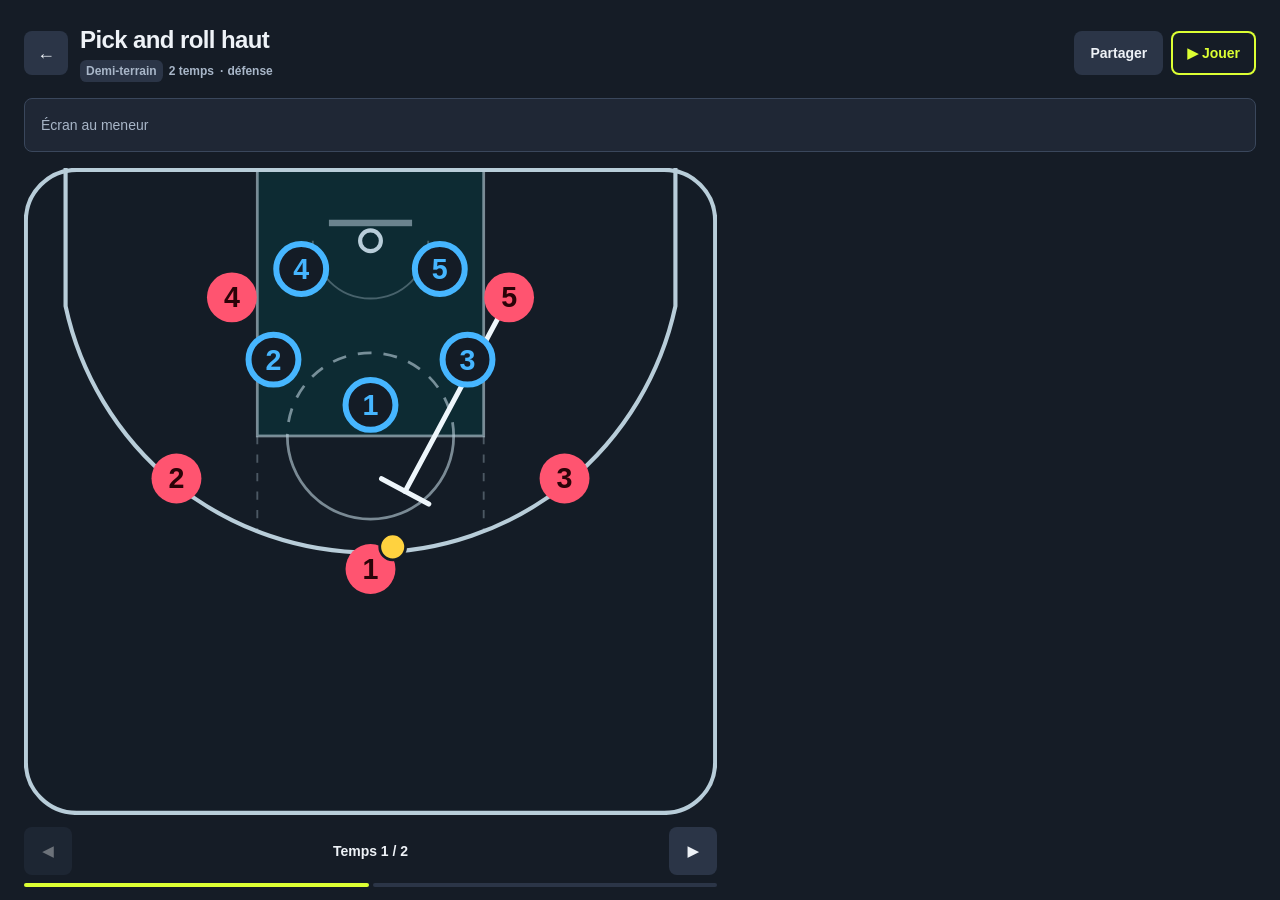
Test case: ExportSchema — sharing a play › sharing asks for no code, even with no role at all
Expected: the picture named "tableau tactique" is shown, x1=24 y1=168 x2=717 y2=815
Click the button "Partager" at (1119, 53), box x1=1074 y1=31 x2=1163 y2=75
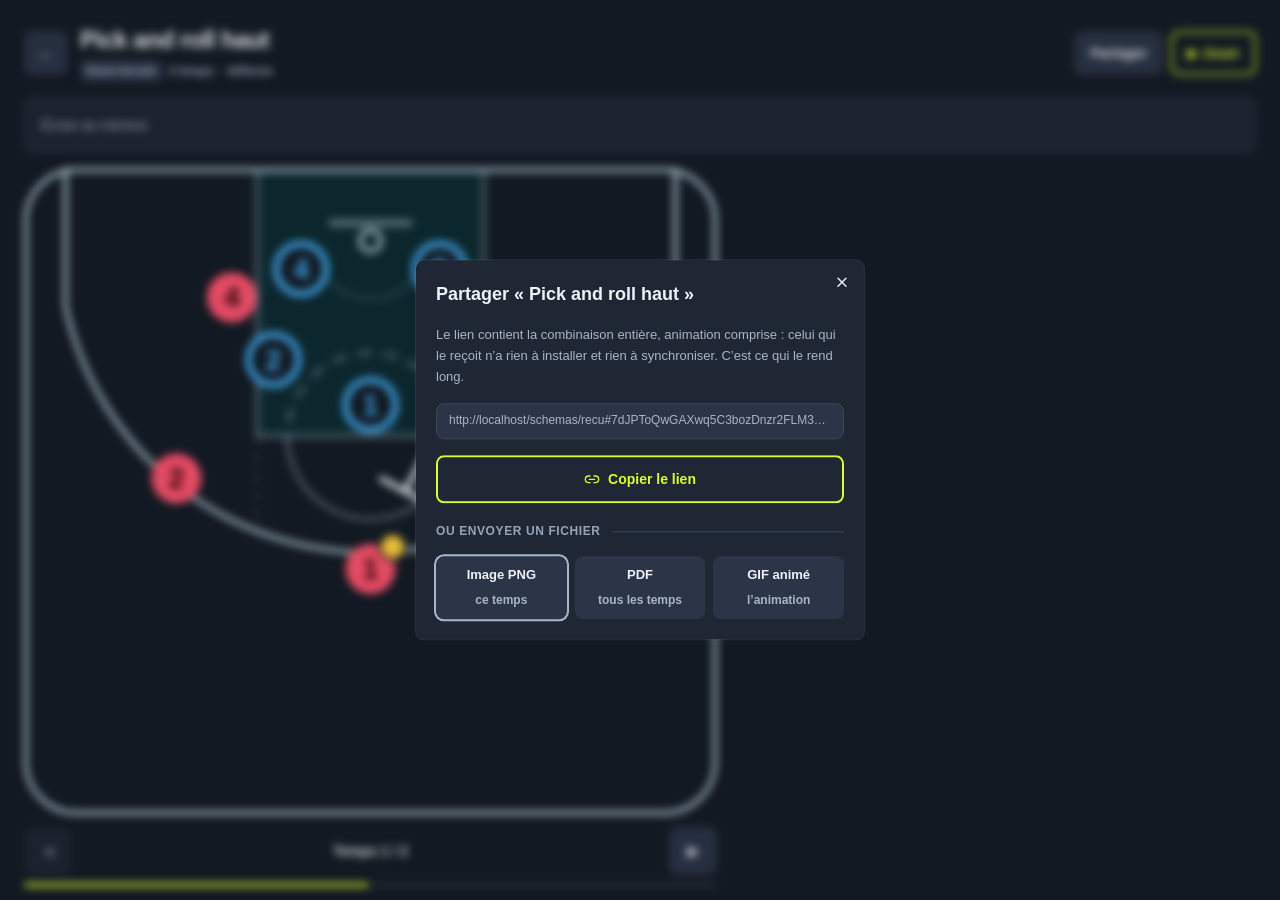
Expected: the button "Image PNG ce temps" is shown, x1=436 y1=556 x2=567 y2=620
